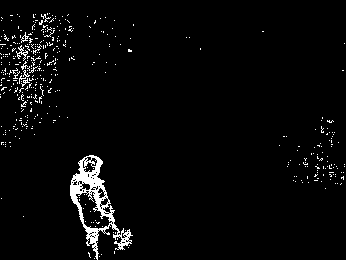person: (66, 155, 132, 260)
